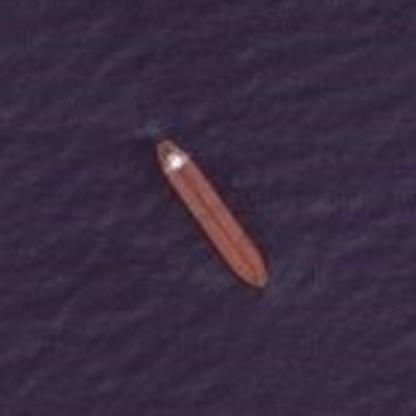ship: (147, 132, 277, 296)
